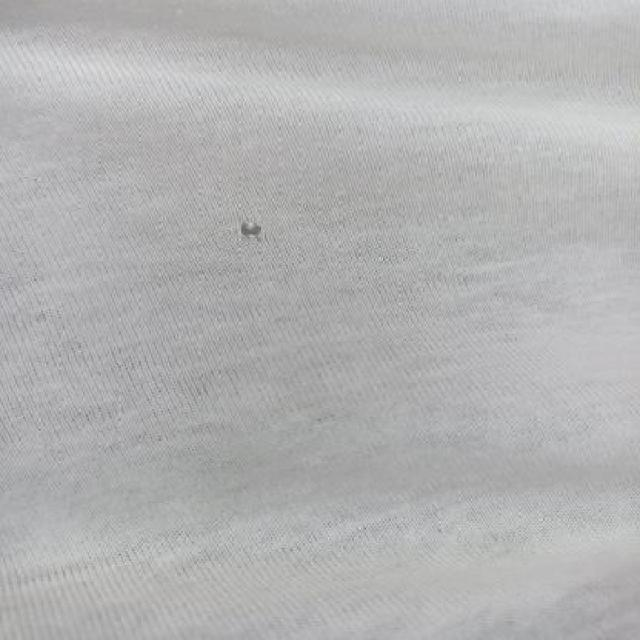seam: (228, 214, 273, 244)
